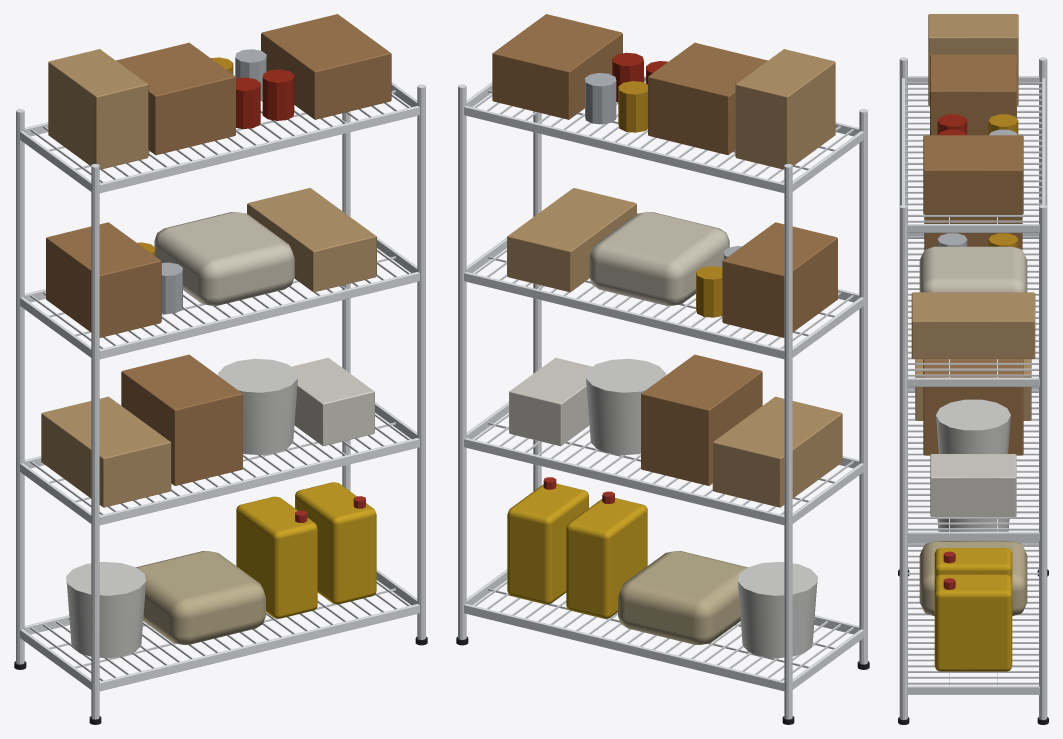
Rendered from shelving.glb.
3 views of the same model, side by side, from view 1: azimuth 30°, elevation 25°; view 2: azimuth 150°, elevation 25°; view 3: azimuth 270°, elevation 25° (orthographic). The views are drawn at different scales.
Visible parts, largest first — view 1: STOCK, BODY; view 2: STOCK, BODY; view 3: STOCK, BODY.
Boxes of the visible parts, x1=… form: STOCK: x1=41, y1=14, x2=391, y2=658; BODY: x1=14, y1=82, x2=427, y2=724; STOCK: x1=492, y1=14, x2=842, y2=658; BODY: x1=456, y1=75, x2=869, y2=724; STOCK: x1=911, y1=14, x2=1035, y2=671; BODY: x1=898, y1=57, x2=1048, y2=724.
Bounding box in the file's own units: 1.2 × 2.09 × 0.5029.
